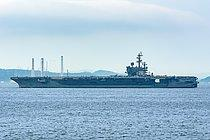MIL_Ship: (9, 50, 201, 88)
